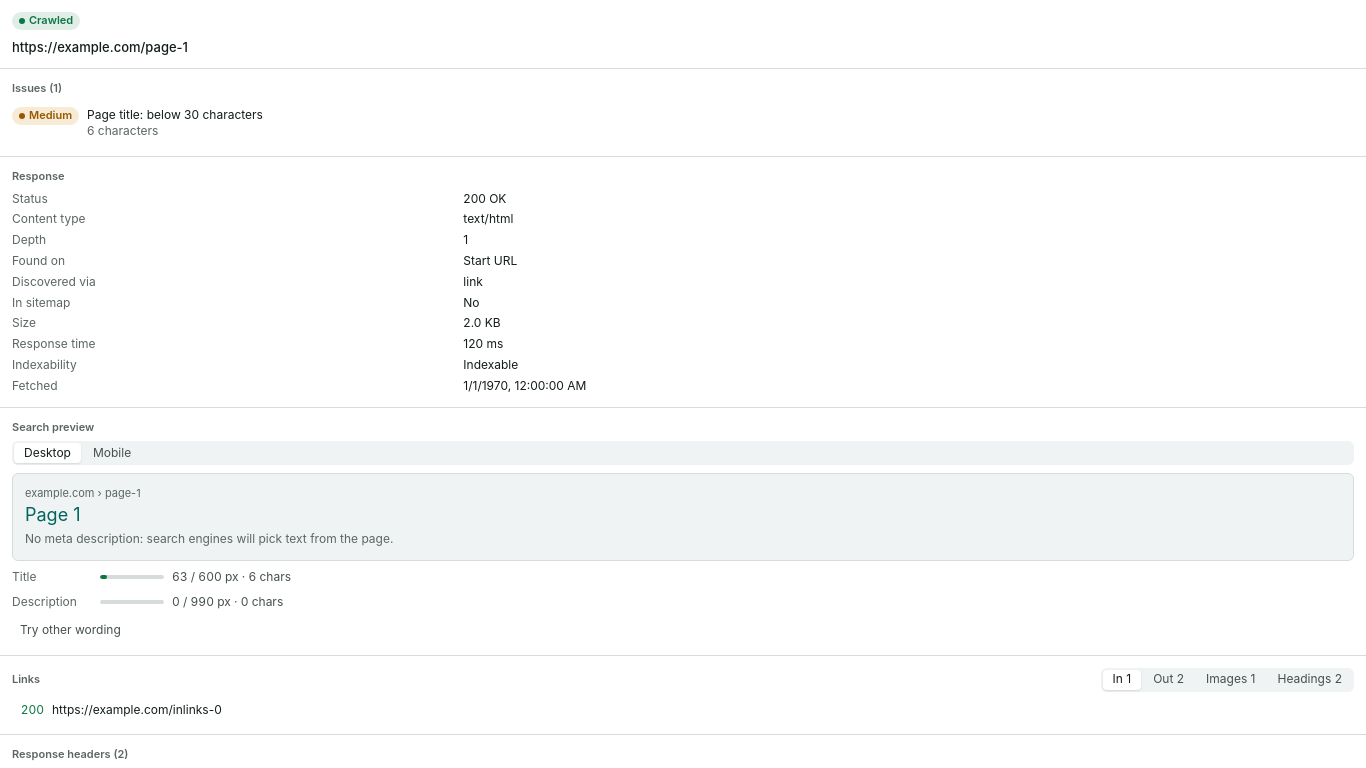
Test: link_list_switches_between_in_out_and_images
Expected: the text "https://example.com/inlinks-0" is shown, [52,702,222,717]
Click the radio button labelled "Out 2": coordinates (1169, 680) [1143,670,1194,690]
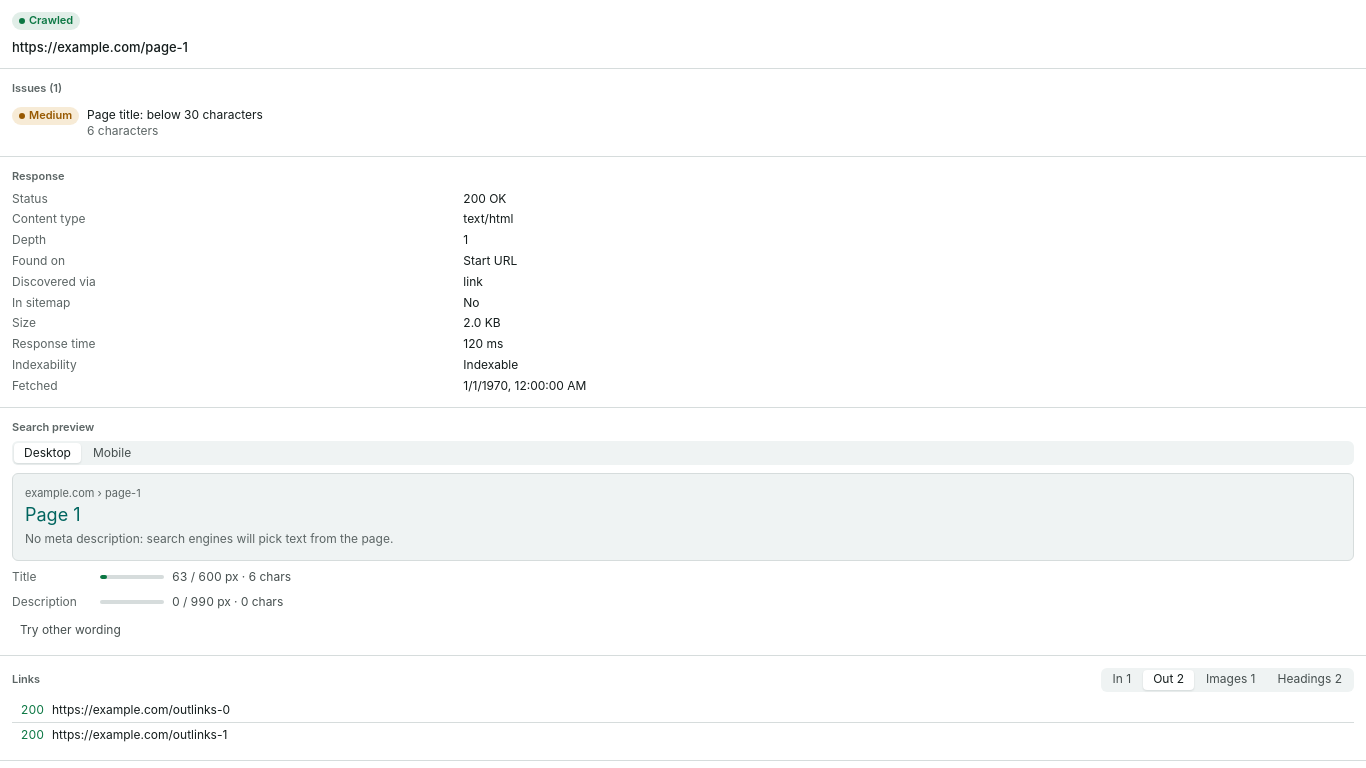
Now the text "https://example.com/outlinks-1" is shown, box [52,728,227,742]
Click the radio button labelled "Images 1": coordinates (1231, 680) [1196,670,1266,690]
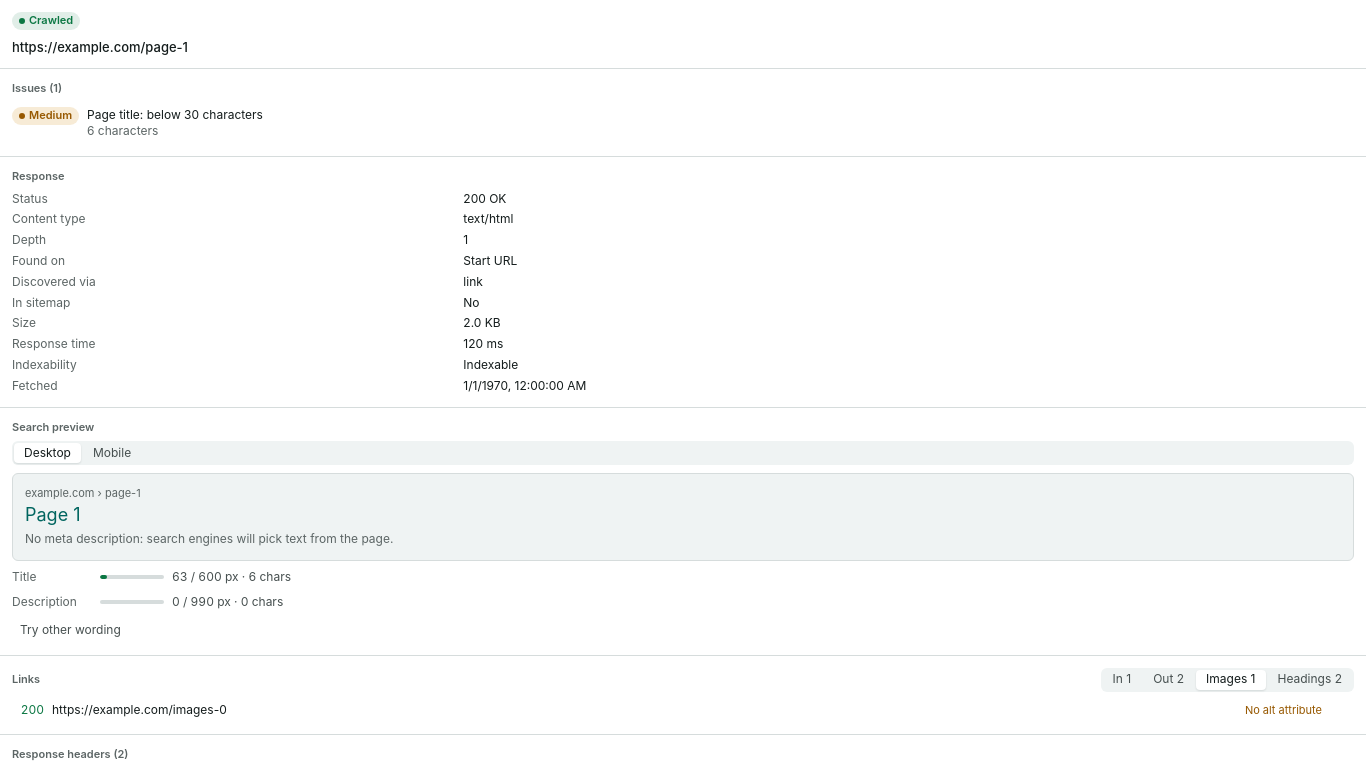
Now the text "https://example.com/images-0" is shown, box [52,702,227,717]
